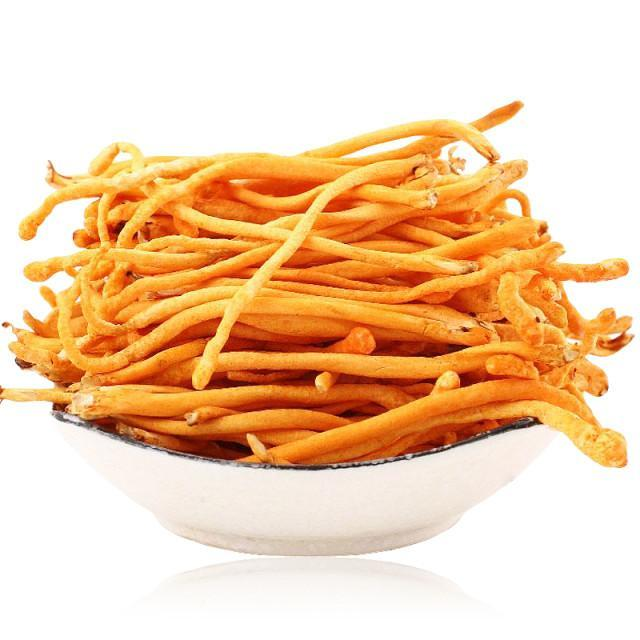Cordyceps militaris: (0, 100, 629, 483)
